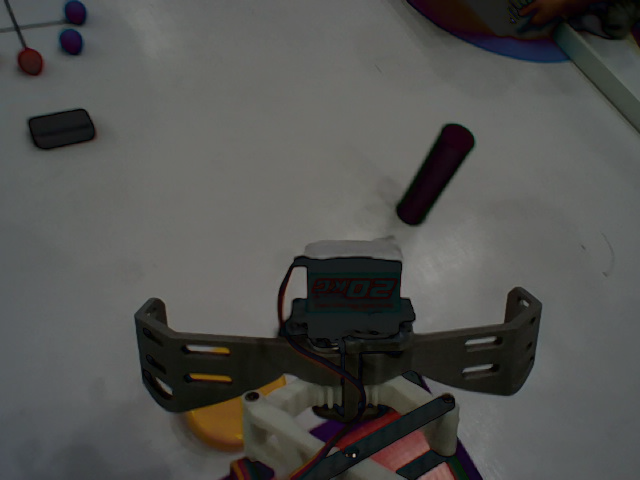black: (10, 106, 118, 154)
blue: (55, 28, 94, 57), (60, 1, 90, 25)
red: (11, 44, 51, 80)
zhuzi: (376, 113, 489, 231)
